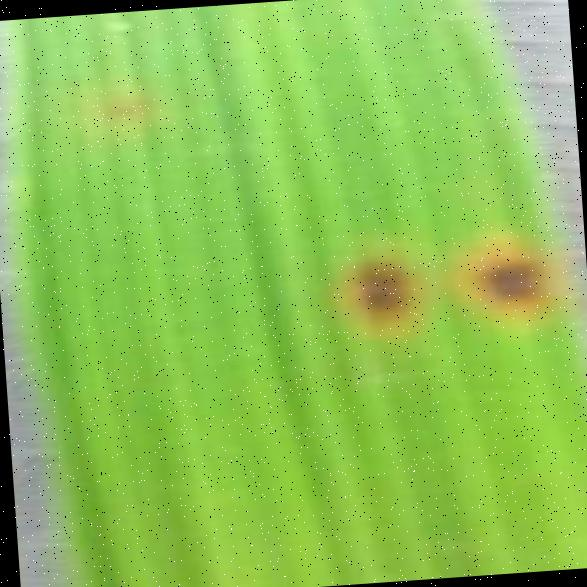Brown_Spot: (449, 216, 567, 343), (317, 230, 434, 346), (84, 76, 156, 132), (76, 38, 110, 66)
